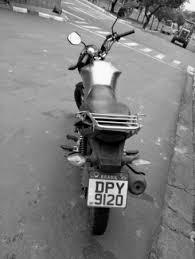placa_mercosul: (88, 170, 129, 208)
